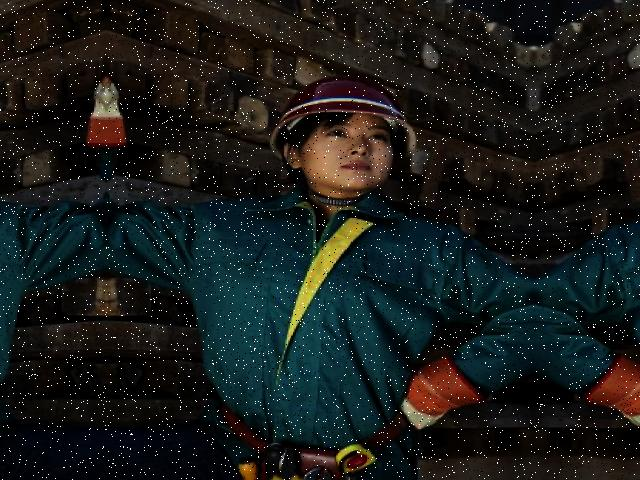Helmet: (262, 71, 426, 171)
